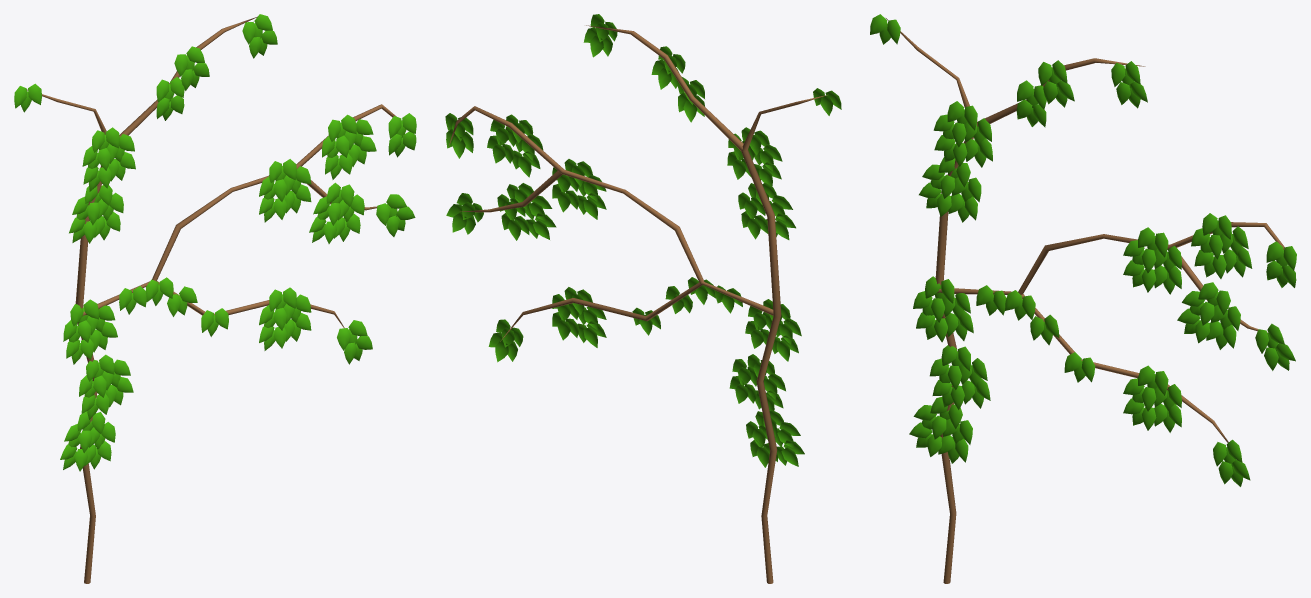
Rendered from VineWallVar1.fbx.
3 views of the same model, side by side, from view 1: azimuth 30°, elevation 25°; view 2: azimuth 150°, elevation 25°; view 3: azimuth 330°, elevation 25° (orthographic). The views are drawn at different scales.
Visible parts, largest first — view 1: VineWallVar1; view 2: VineWallVar1; view 3: VineWallVar1.
Boxes of the visible parts, <box> form: VineWallVar1: <box>14,14,416,583</box>; VineWallVar1: <box>445,14,841,583</box>; VineWallVar1: <box>870,14,1296,583</box>.
Bounding box in the file's own units: 503 × 635 × 22.78.
